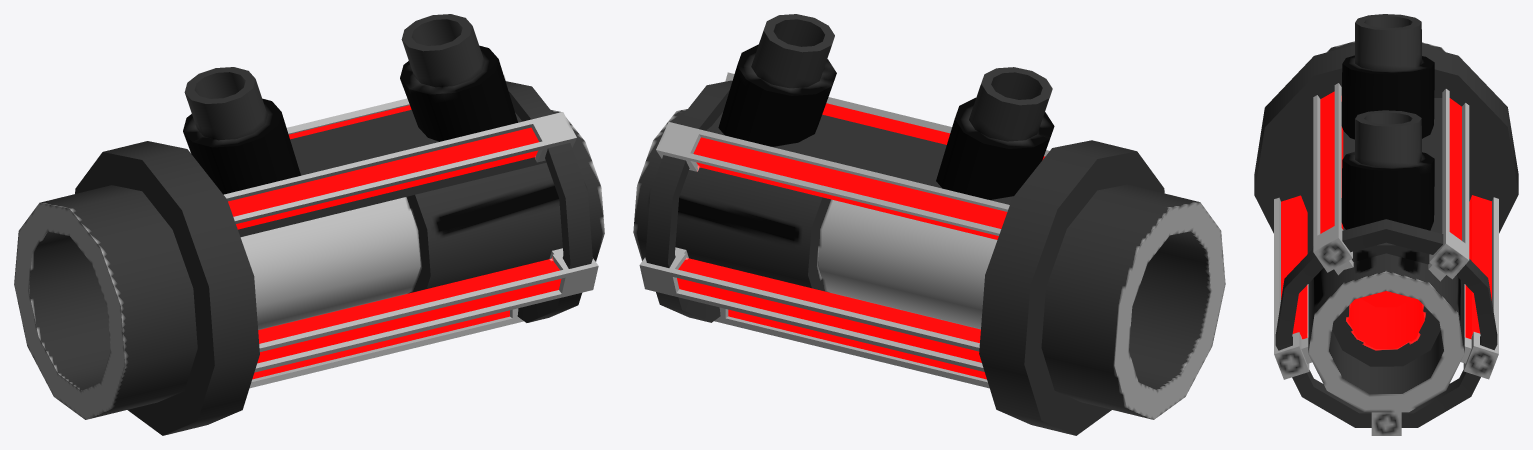
The model's file is Laser.glb.
3 views of the same model, side by side, from view 1: azimuth 30°, elevation 25°; view 2: azimuth 150°, elevation 25°; view 3: azimuth 270°, elevation 25° (orthographic). The views are drawn at different scales.
Parts seen in each view (by area): view 1: Circle, Circle.001, Cylinder, Cylinder.001, Cube; view 2: Circle, Circle.001, Cylinder, Cylinder.001, Cube; view 3: Circle, Circle.001, Cylinder, Cylinder.001, Cube.
Part boxes in pixels (box(x1,y1,x2,y2)): Circle: box(14, 81, 604, 435); Circle.001: box(189, 75, 598, 388); Cylinder: box(400, 14, 517, 141); Cylinder.001: box(183, 67, 300, 194); Cube: box(238, 110, 546, 237); Circle: box(633, 80, 1225, 435); Circle.001: box(639, 72, 1049, 388); Cylinder: box(718, 14, 836, 146); Cylinder.001: box(936, 67, 1054, 199); Cube: box(706, 112, 1013, 204); Circle: box(1254, 41, 1518, 427); Circle.001: box(1274, 83, 1498, 435); Cylinder: box(1341, 110, 1434, 230); Cylinder.001: box(1341, 14, 1434, 139); Cube: box(1343, 98, 1442, 264).
Size of the model in its own units: 6.57 by 4.1 by 3.36.
1 material, 1 textured.
